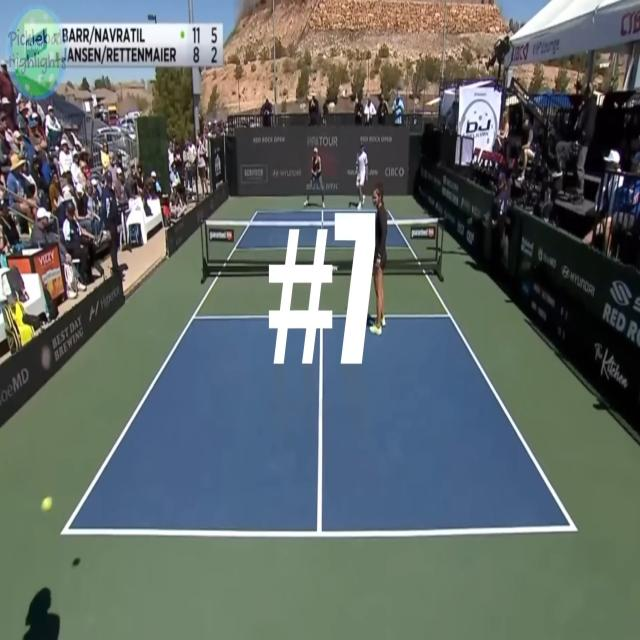ball: (41, 492, 56, 515)
